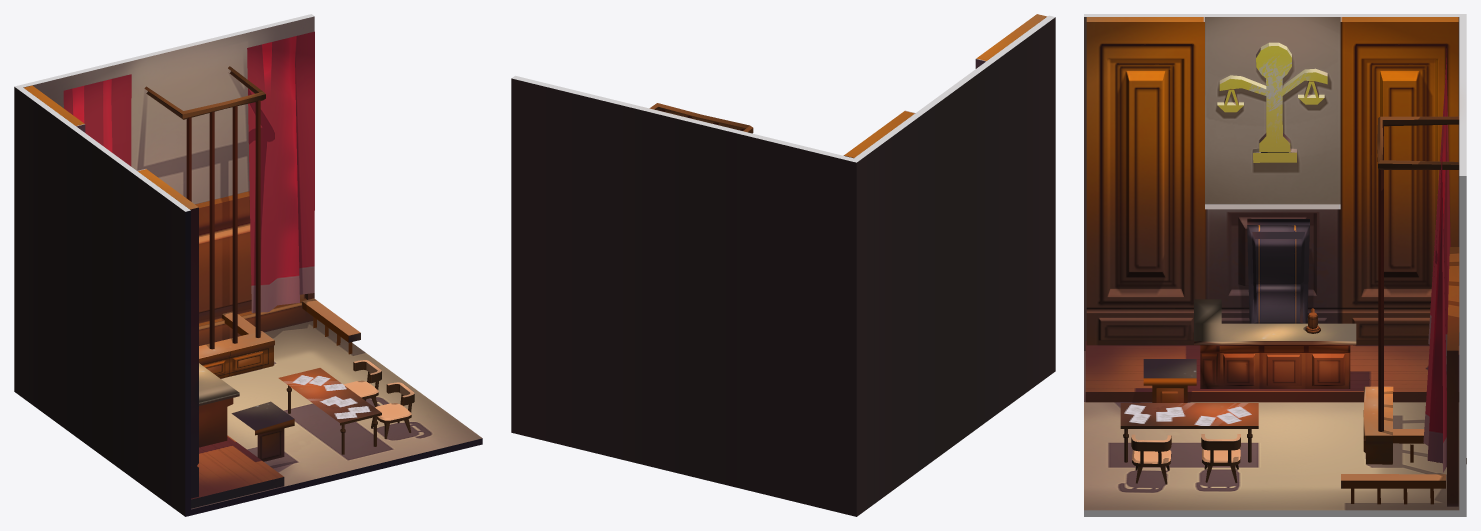
File: Tx_Interior_Work_Court_20170713.fbx
The picture shows the model from 3 angles, left to right: view 1: azimuth 30°, elevation 25°; view 2: azimuth 150°, elevation 25°; view 3: azimuth 270°, elevation 25°; orthographic projection. The views are drawn at different scales.
Parts seen in each view (by area): view 1: court_acc2; view 2: court_acc2; view 3: court_acc2.
Boxes of the visible parts, bbox=[...] form: court_acc2: bbox=[14, 14, 482, 516]; court_acc2: bbox=[511, 14, 1055, 516]; court_acc2: bbox=[1084, 14, 1466, 516].
Bounding box in the file's own units: 30.29 × 30.1 × 30.23.
Materials: 2 (2 with a texture image).
